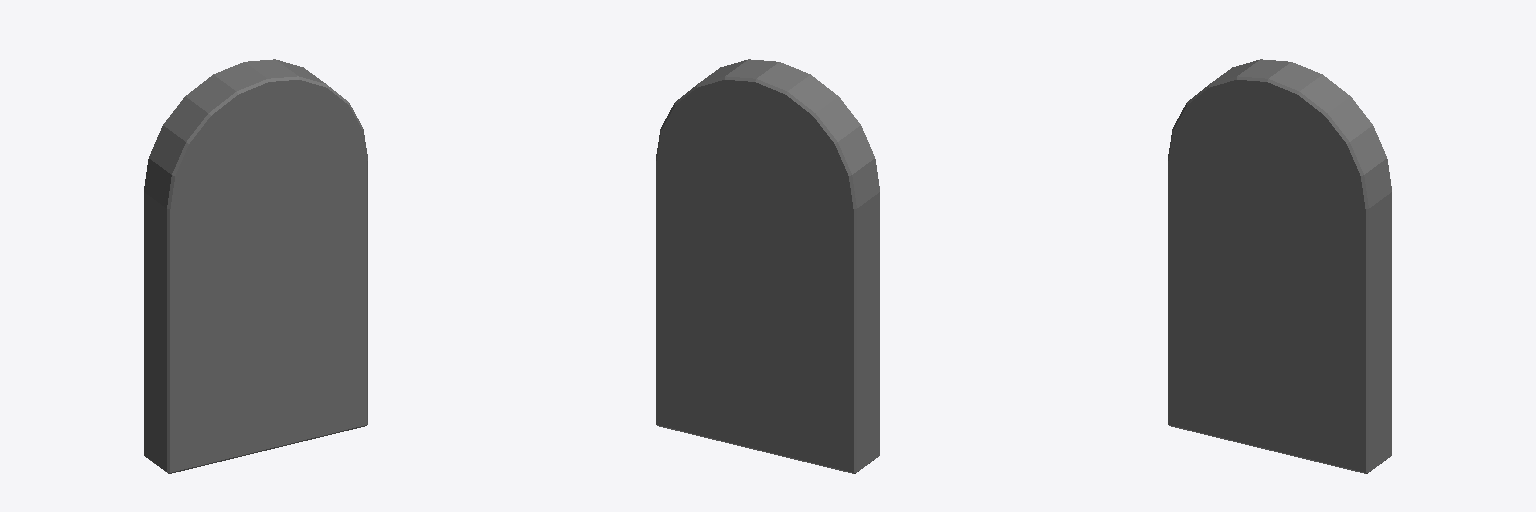
Rendered from cmc_headstone_obj_low.obj.
The picture shows the model from 3 angles: view 1: azimuth 30°, elevation 25°; view 2: azimuth 150°, elevation 25°; view 3: azimuth 330°, elevation 25°; orthographic projection.
Parts seen in each view (by area): view 1: pCylinder1; view 2: pCylinder1; view 3: pCylinder1.
Boxes of the visible parts, <box> form: pCylinder1: <box>144,59,367,473</box>; pCylinder1: <box>656,59,879,473</box>; pCylinder1: <box>1168,59,1391,473</box>.
Bounding box in the file's own units: 2 × 3.52 × 0.4443.